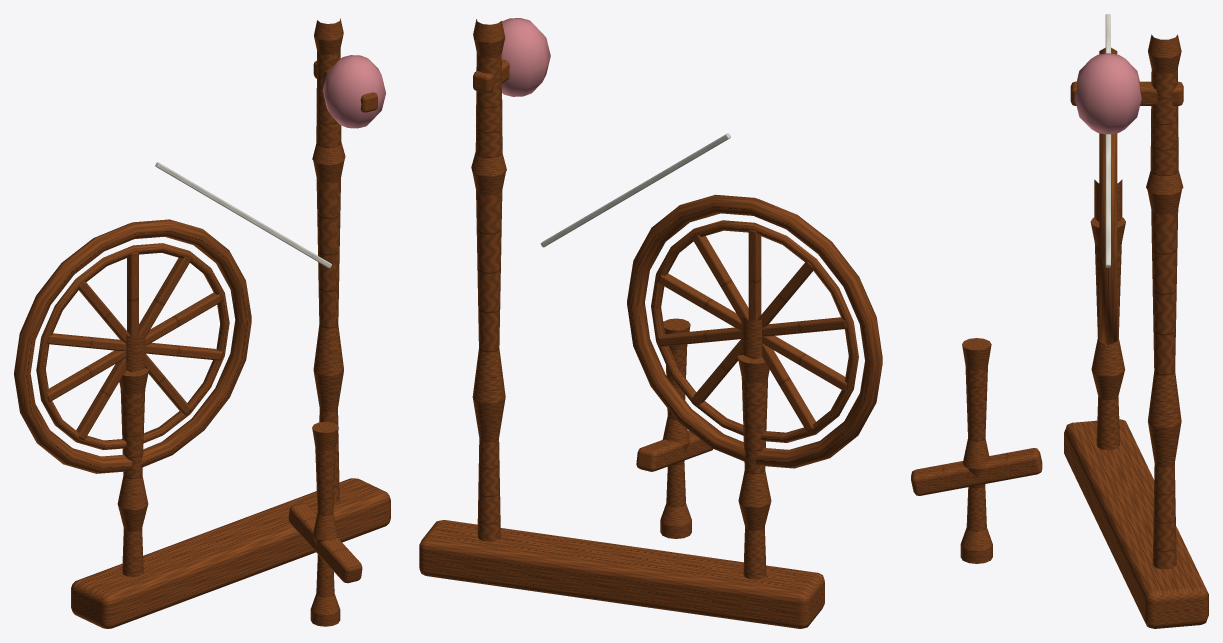
The model's file is witch-cottage-and-apothecary-spinning-wheel-7422193e__32452.glb.
3 views of the same model, side by side, from view 1: azimuth 30°, elevation 25°; view 2: azimuth 150°, elevation 25°; view 3: azimuth 270°, elevation 25° (orthographic). The views are drawn at different scales.
Visible parts, largest first — view 1: spinning-wheel, wheel-spinning; view 2: spinning-wheel, wheel-spinning; view 3: spinning-wheel, wheel-spinning.
Boxes of the visible parts, <box> form: spinning-wheel: <box>71,18,390,628</box>; wheel-spinning: <box>14,219,251,473</box>; spinning-wheel: <box>419,18,824,628</box>; wheel-spinning: <box>627,194,882,468</box>; spinning-wheel: <box>911,14,1208,628</box>; wheel-spinning: <box>1094,47,1122,346</box>.
Bounding box in the file's own units: 1.07 × 1.34 × 0.6337.
3 materials, 2 textured.
